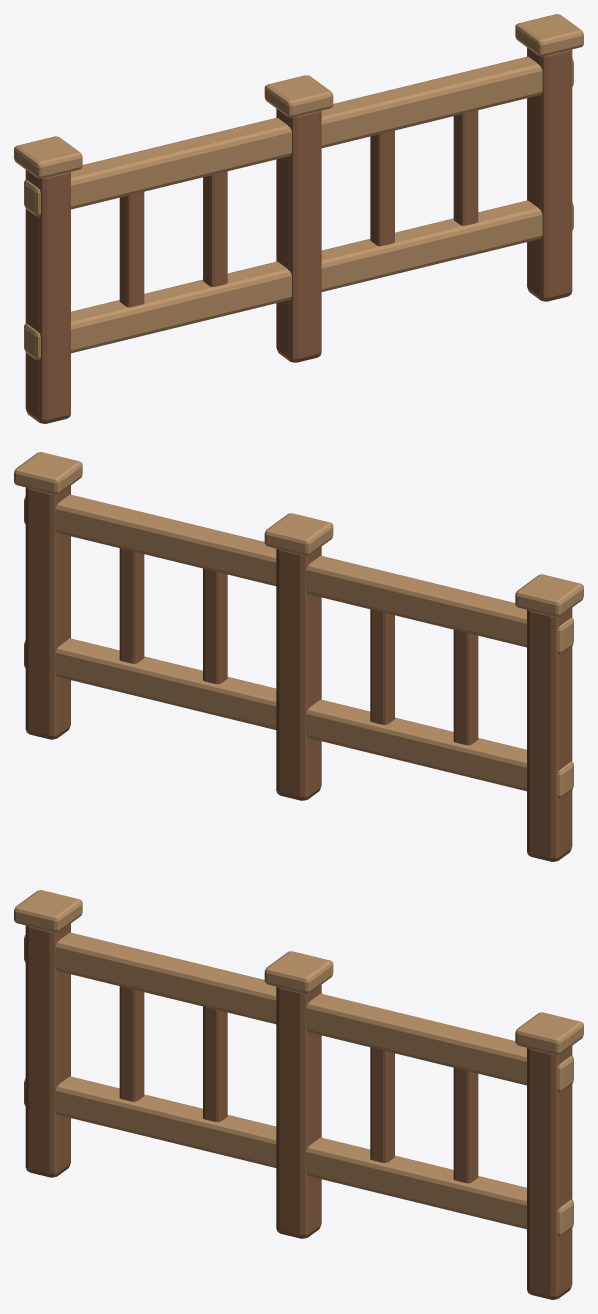
The model's file is railing_timber_2m.glb.
3 views of the same model, one above another, from view 1: azimuth 30°, elevation 25°; view 2: azimuth 150°, elevation 25°; view 3: azimuth 330°, elevation 25° (orthographic).
Visible parts, largest first — view 1: railing_timber_2m; view 2: railing_timber_2m; view 3: railing_timber_2m.
Boxes of the visible parts, x1,y1,x2,y2 form: railing_timber_2m: (14, 14, 583, 423); railing_timber_2m: (14, 452, 583, 861); railing_timber_2m: (14, 890, 583, 1299).
Bounding box in the file's own units: 2.03 × 0.95 × 0.17.
